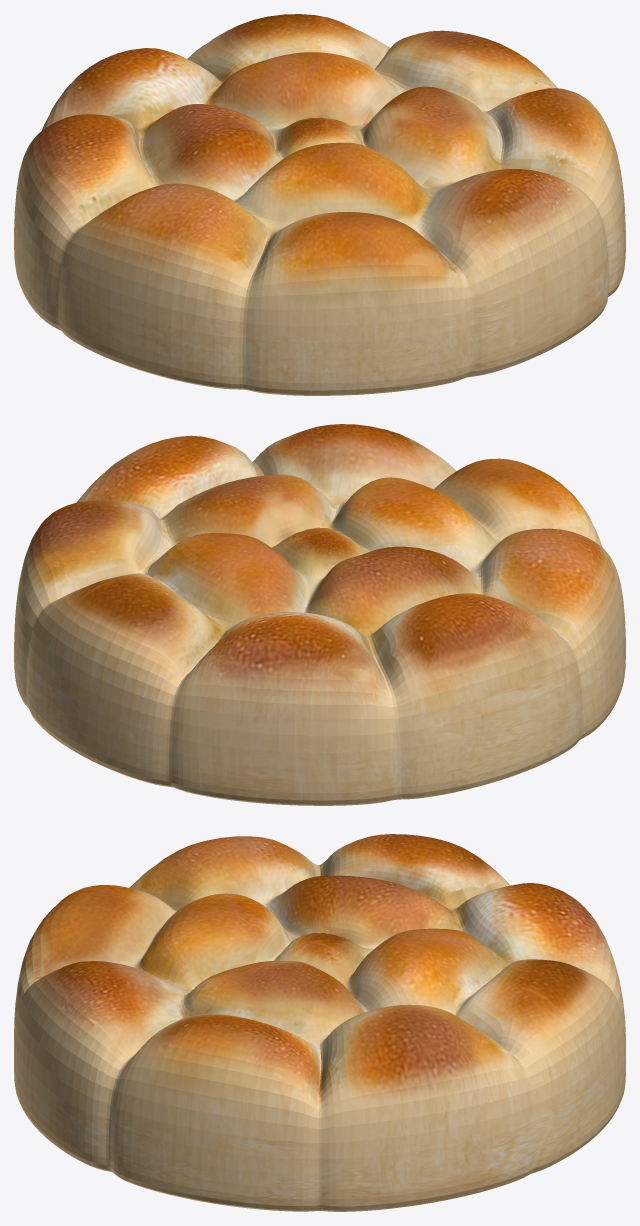
The model's file is roti_paung_highres.gltf.
3 views of the same model, one above another, from view 1: azimuth 30°, elevation 25°; view 2: azimuth 150°, elevation 25°; view 3: azimuth 270°, elevation 25° (orthographic).
Parts seen in each view (by area): view 1: Roti Paung; view 2: Roti Paung; view 3: Roti Paung.
Boxes of the visible parts, <box> form: Roti Paung: <box>14,14,625,395</box>; Roti Paung: <box>14,424,625,805</box>; Roti Paung: <box>14,834,625,1211</box>.
Bounding box in the file's own units: 8.64 × 2.6 × 8.61.
Materials: 1 (1 with a texture image).
